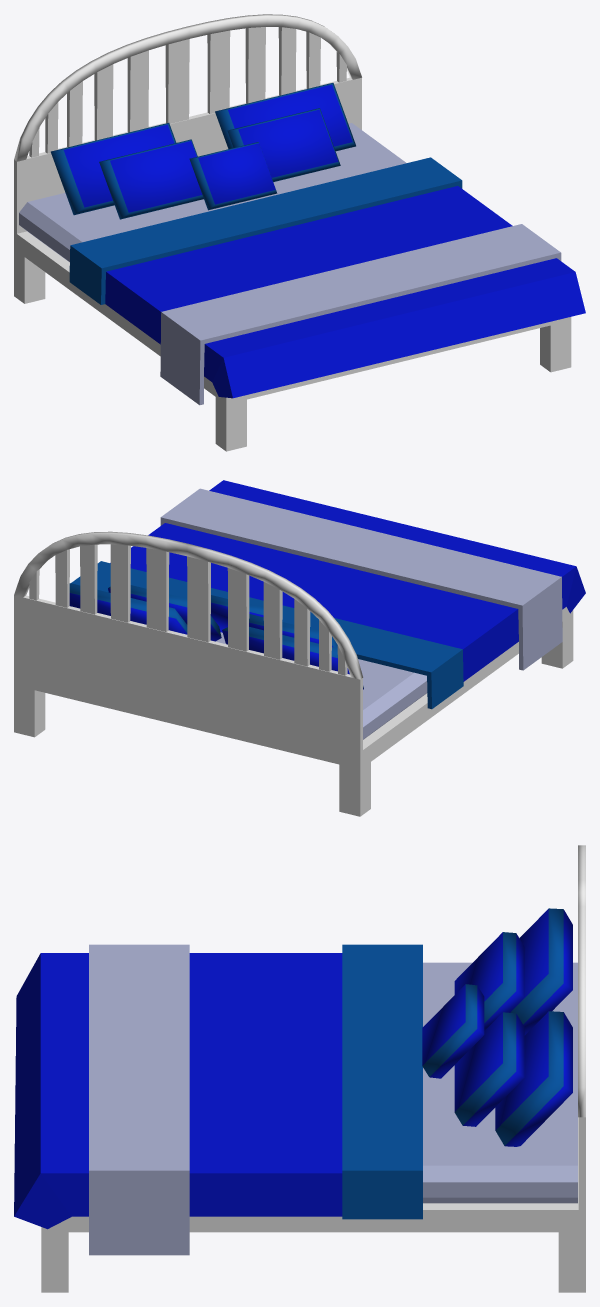
File: LitDouble4.fbx
3 renders of one model, top to bottom at view 1: azimuth 30°, elevation 25°; view 2: azimuth 150°, elevation 25°; view 3: azimuth 270°, elevation 25°, orthographic. The views are drawn at different scales.
Parts seen in each view (by area): view 1: Plane; view 2: Plane; view 3: Plane.
Boxes of the visible parts, x1,y1,x2,y2 form: Plane: (14, 14, 585, 451); Plane: (14, 480, 585, 816); Plane: (14, 845, 585, 1292).
Size of the model in its own units: 500 by 300 by 533.
